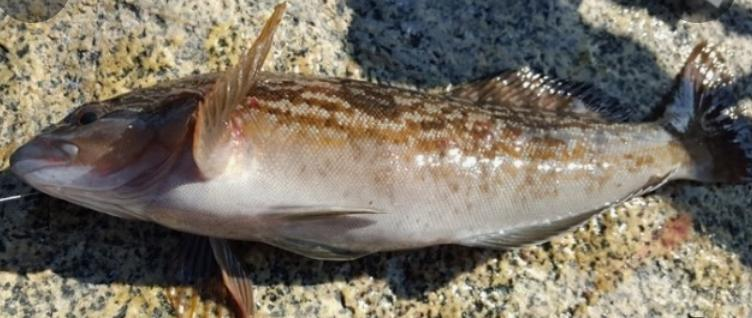fish: (11, 3, 749, 317)
